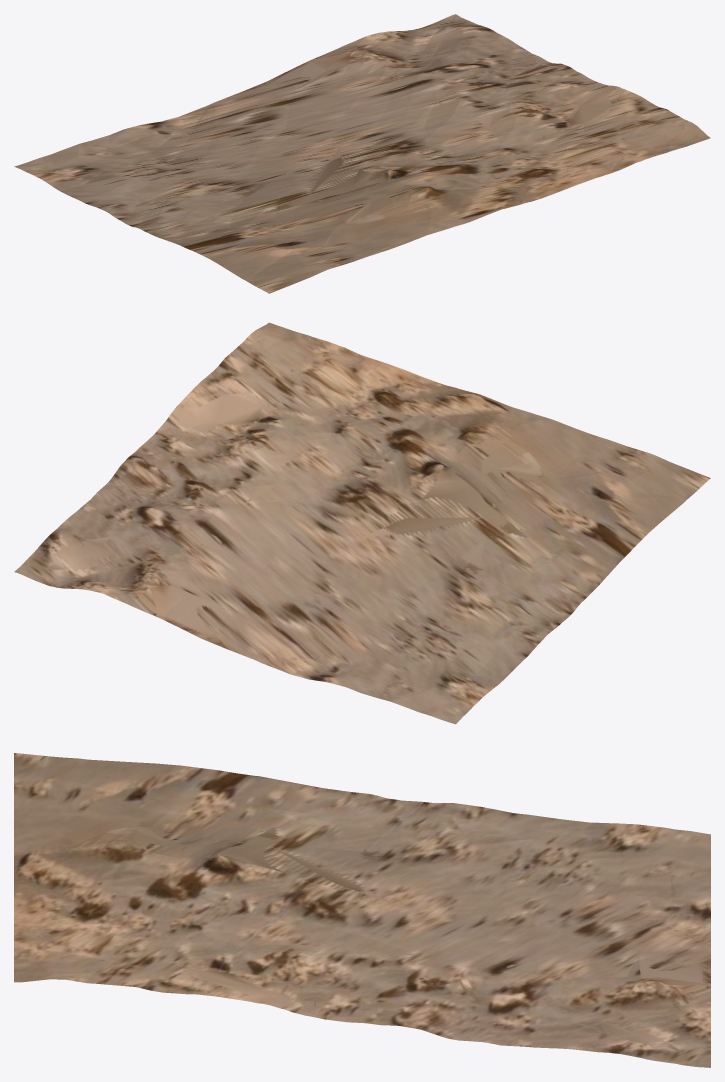
3 renders of one model, top to bottom at view 1: azimuth 30°, elevation 25°; view 2: azimuth 150°, elevation 25°; view 3: azimuth 270°, elevation 25°, orthographic. The views are drawn at different scales.
Bounding box in the file's own units: 4.18 × 0.9897 × 4.18.
Materials: 2 (2 with a texture image).
